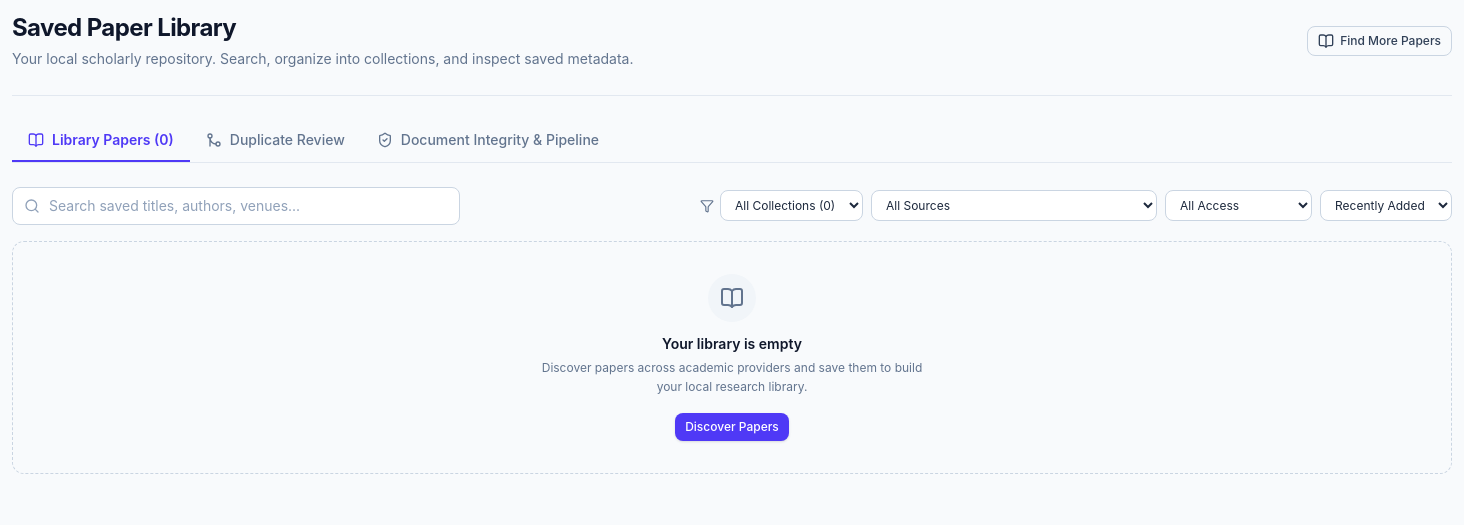
Test: Phase 7 — Paper Processing, Deduplication & PDF Integrity Frontend › switches to Duplicate Review tab and renders queue controls
This screenshot has width=1464, height=525.
Click the button "Duplicate Review". click: (275, 141)
box: [190,120,361,162]
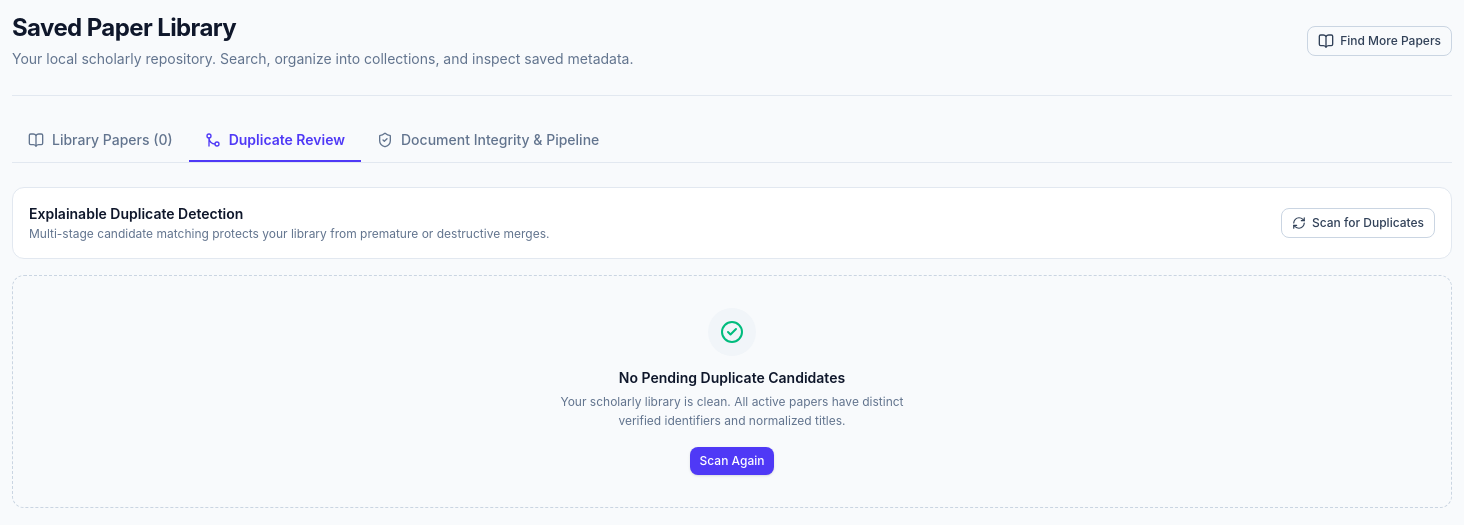
Expected: the heading "Explainable Duplicate Detection" is shown, [29,205,243,222]
Expected: the button "Scan for Duplicates" is shown, [1281,208,1435,238]
